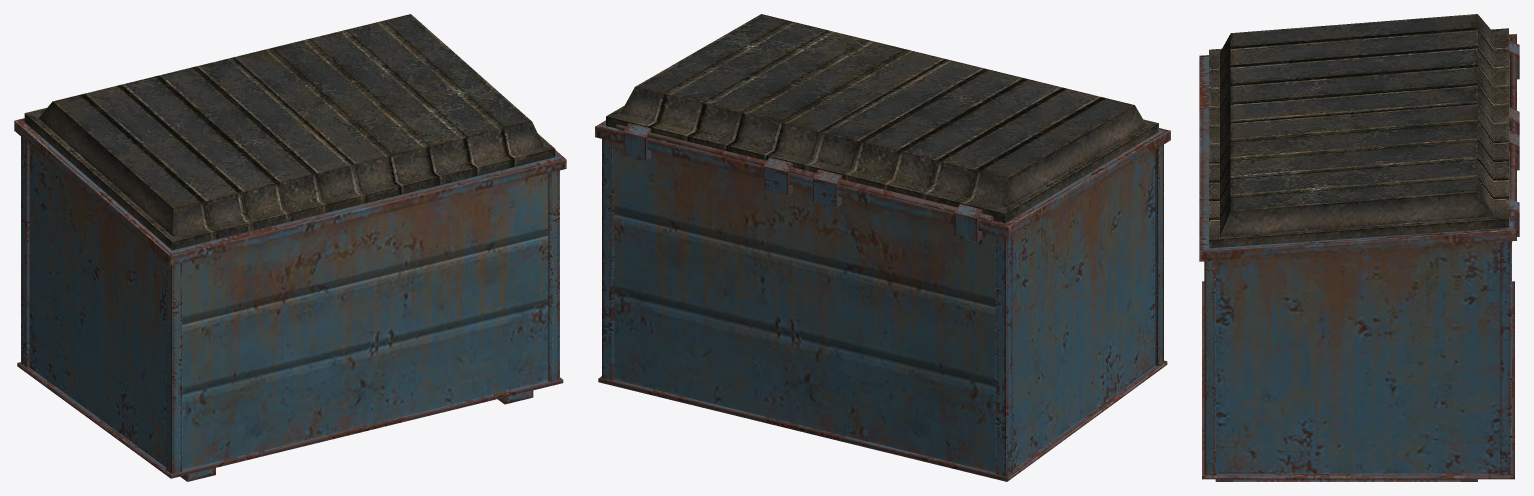
The model's file is Prop_Dljt01.glb.
3 renders of one model, left to right at view 1: azimuth 30°, elevation 25°; view 2: azimuth 150°, elevation 25°; view 3: azimuth 270°, elevation 25°, orthographic. The views are drawn at different scales.
Parts seen in each view (by area): view 1: xiutz_dljt_01; view 2: xiutz_dljt_01; view 3: xiutz_dljt_01.
Part boxes in pixels (box(x1,y1,x2,y2)): xiutz_dljt_01: box(14, 14, 566, 481); xiutz_dljt_01: box(595, 14, 1170, 481); xiutz_dljt_01: box(1199, 14, 1519, 481).
Size of the model in its own units: 3.17 by 2.2 by 2.18.
1 material, 1 textured.
